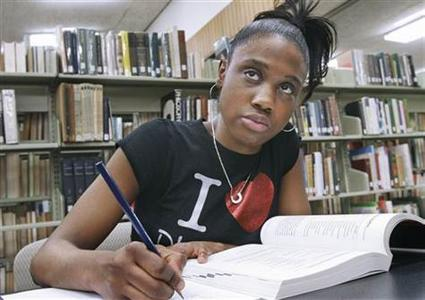person: (30, 6, 315, 298)
